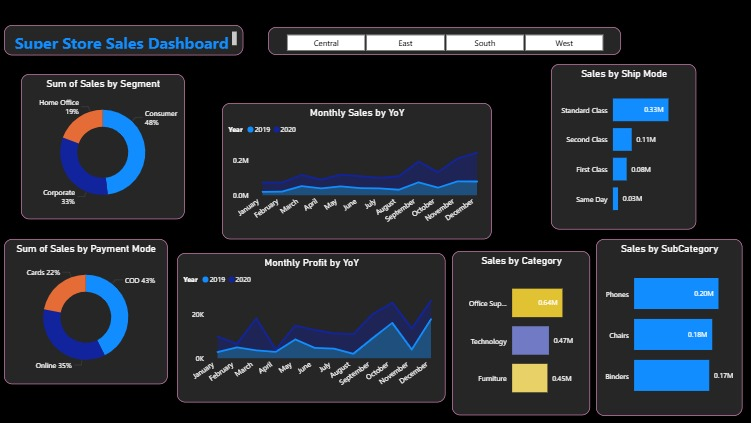

What the dashboard file says about the page in this screenshot:
{"tool":"powerbi","page":{"name":"Page 1","canvas":[1280,720],"ordinal":0},"visuals":[{"type":"clusteredBarChart","title":"Sales by Category","fields":{"Category":["SuperStore_Sales_Dataset.Category"],"Y":["Sum(SuperStore_Sales_Dataset.Sales)"]},"box":[776.3,427.1,232.2,276.3],"z":0},{"type":"clusteredBarChart","title":"Sales by SubCategory","fields":{"Category":["SuperStore_Sales_Dataset.Sub-Category","SuperStore_Sales_Dataset.Category"],"Y":["Sum(SuperStore_Sales_Dataset.Sales)"]},"box":[1018.6,406.8,245.8,296.6],"z":1000},{"type":"clusteredBarChart","title":"Sales by Ship Mode","fields":{"Category":["SuperStore_Sales_Dataset.Ship Mode"],"Y":["Sum(SuperStore_Sales_Dataset.Sales)"]},"box":[942.4,111.9,244.1,278],"z":2000},{"type":"stackedAreaChart","title":"Monthly Sales by YoY","fields":{"Y":["Sum(SuperStore_Sales_Dataset.Sales)"],"Category":["SuperStore_Sales_Dataset.Order Date.Variation.Date Hierarchy.Month","SuperStore_Sales_Dataset.Order Date.Variation.Date Hierarchy.Day"],"Series":["SuperStore_Sales_Dataset.Order Date.Variation.Date Hierarchy.Year"]},"box":[389.8,178,452.5,228.8],"z":3000},{"type":"stackedAreaChart","title":"Monthly Profit by YoY","fields":{"Category":["SuperStore_Sales_Dataset.Order Date.Variation.Date Hierarchy.Month","SuperStore_Sales_Dataset.Order Date.Variation.Date Hierarchy.Day"],"Series":["SuperStore_Sales_Dataset.Order Date.Variation.Date Hierarchy.Year"],"Y":["Sum(SuperStore_Sales_Dataset.Profit)"]},"box":[313.6,430.5,450.8,250.8],"z":4000},{"type":"donutChart","fields":{"Category":["SuperStore_Sales_Dataset.Segment"],"Y":["Sum(SuperStore_Sales_Dataset.Sales)"]},"box":[52.5,128.8,274.6,244.1],"z":5000},{"type":"donutChart","fields":{"Category":["SuperStore_Sales_Dataset.Payment Mode"],"Y":["Sum(SuperStore_Sales_Dataset.Sales)"]},"box":[23.7,406.8,274.6,244.1],"z":6000},{"type":"slicer","fields":{"Values":["SuperStore_Sales_Dataset.Region"]},"box":[467.8,50.8,593.2,47.5],"z":7000},{"type":"textbox","box":[23.7,47.5,401.7,50.8],"z":8000},{"type":"qnaVisual","box":[327.1,128.8,150,244.1],"z":9000}]}

Visuals, with their boxes in screenshot pixels (x1, y1, x2, y2), scaled from the page's 1280x720 canvas onto the 751x423 screenshot:
"Sales by Category" clusteredBarChart: BBox(455, 251, 592, 413)
"Sales by SubCategory" clusteredBarChart: BBox(598, 239, 742, 413)
"Sales by Ship Mode" clusteredBarChart: BBox(553, 66, 696, 229)
"Monthly Sales by YoY" stackedAreaChart: BBox(229, 105, 494, 239)
"Monthly Profit by YoY" stackedAreaChart: BBox(184, 253, 448, 400)
donutChart - SuperStore_Sales_Dataset.Segment x Sum(SuperStore_Sales_Dataset.Sales): BBox(31, 76, 192, 219)
donutChart - SuperStore_Sales_Dataset.Payment Mode x Sum(SuperStore_Sales_Dataset.Sales): BBox(14, 239, 175, 382)
slicer - SuperStore_Sales_Dataset.Region: BBox(274, 30, 623, 58)
textbox: BBox(14, 28, 250, 58)
qnaVisual: BBox(192, 76, 280, 219)
